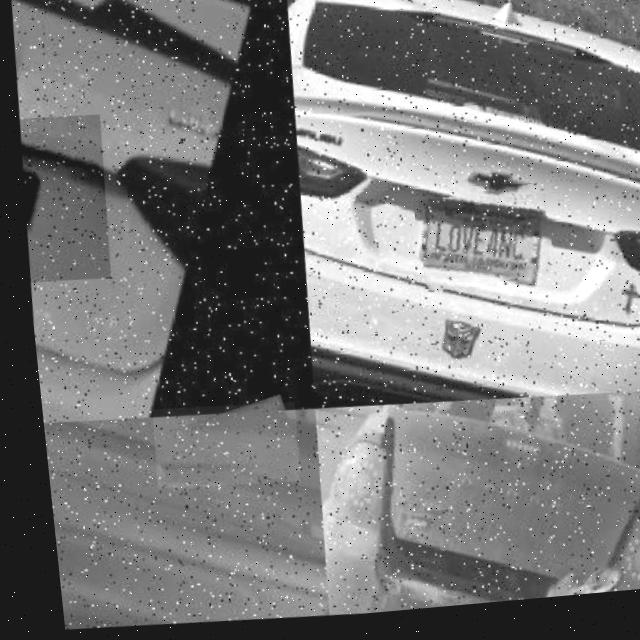LicensePlate: (11, 113, 110, 285), (140, 401, 291, 495), (417, 207, 541, 283)
